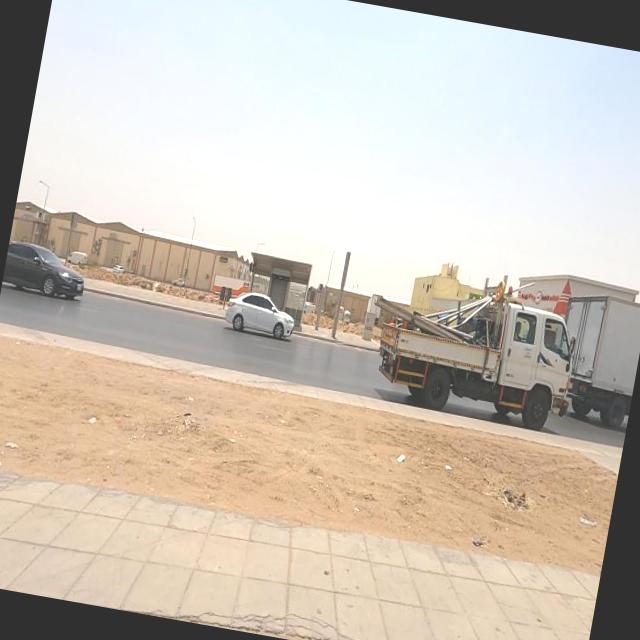debris: (452, 439, 572, 546), (150, 377, 236, 469), (552, 474, 616, 564), (58, 374, 120, 465), (376, 413, 430, 492), (423, 432, 482, 496), (0, 403, 39, 495)
